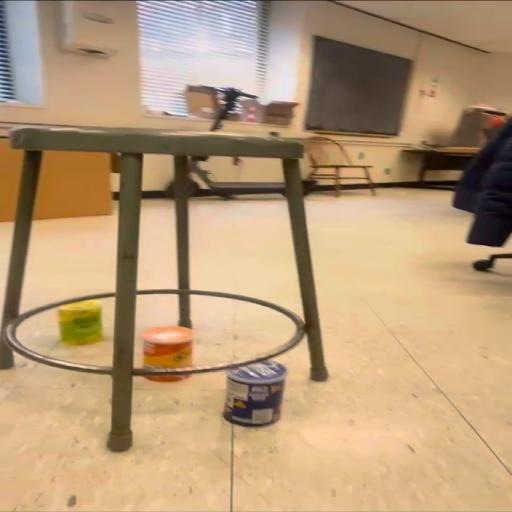pringle can: (215, 361, 287, 429), (56, 299, 106, 349), (140, 325, 195, 368)
